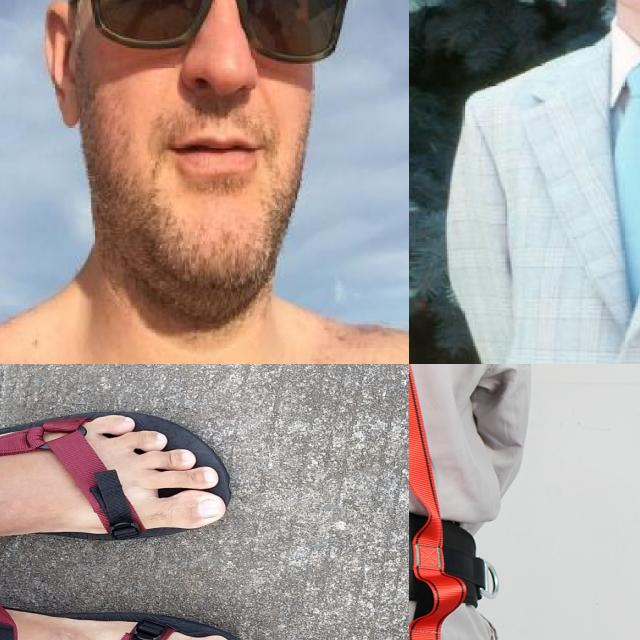Harness: (409, 364, 484, 640)
No_Ear-Protection: (41, 0, 87, 130)
Sandals: (0, 411, 228, 550), (0, 584, 256, 640)
face_nomask: (86, 0, 326, 208)
glasses: (61, 0, 354, 72)
person: (471, 0, 640, 364)
